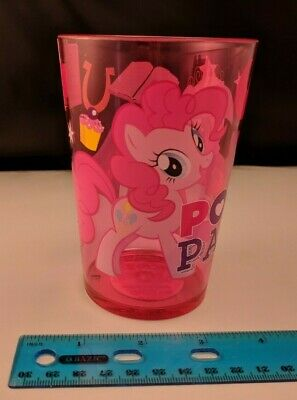plastic_glass: (53, 25, 262, 326)
